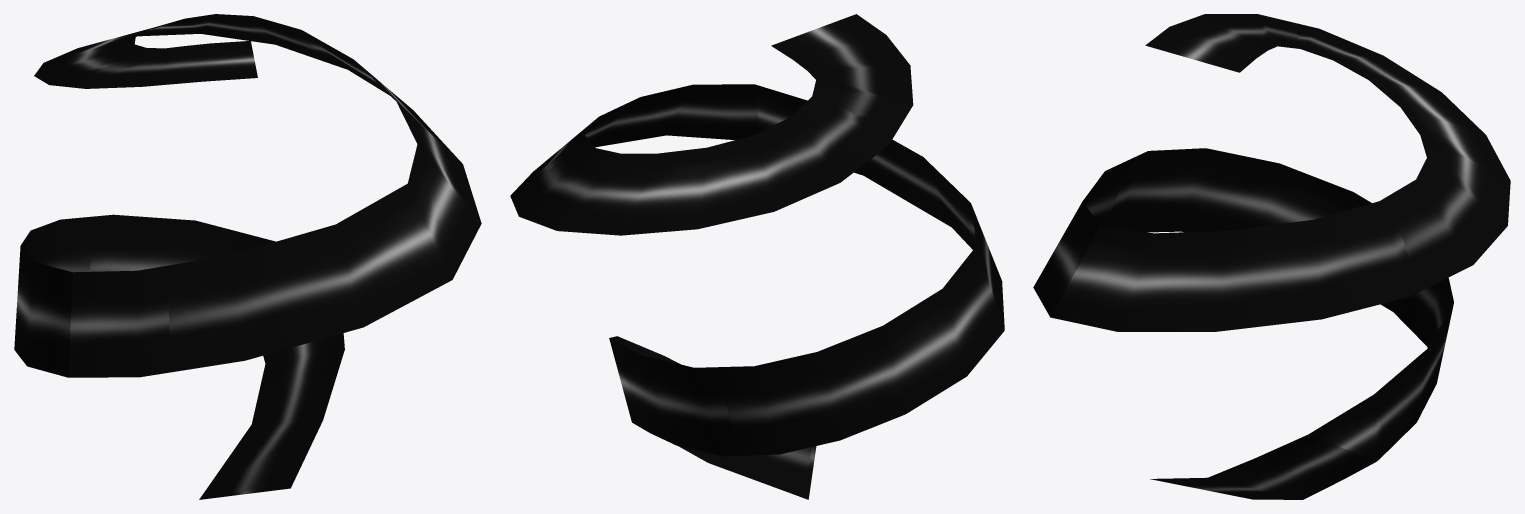
The model's file is Spiral.fbx.
3 renders of one model, left to right at view 1: azimuth 30°, elevation 25°; view 2: azimuth 150°, elevation 25°; view 3: azimuth 270°, elevation 25°, orthographic. The views are drawn at different scales.
Parts seen in each view (by area): view 1: pasted__polySurface2; view 2: pasted__polySurface2; view 3: pasted__polySurface2.
Boxes of the visible parts, <box> form: pasted__polySurface2: <box>14,14,481,499</box>; pasted__polySurface2: <box>510,14,1004,499</box>; pasted__polySurface2: <box>1033,14,1510,499</box>.
Bounding box in the file's own units: 4.51 × 4.76 × 4.51.
